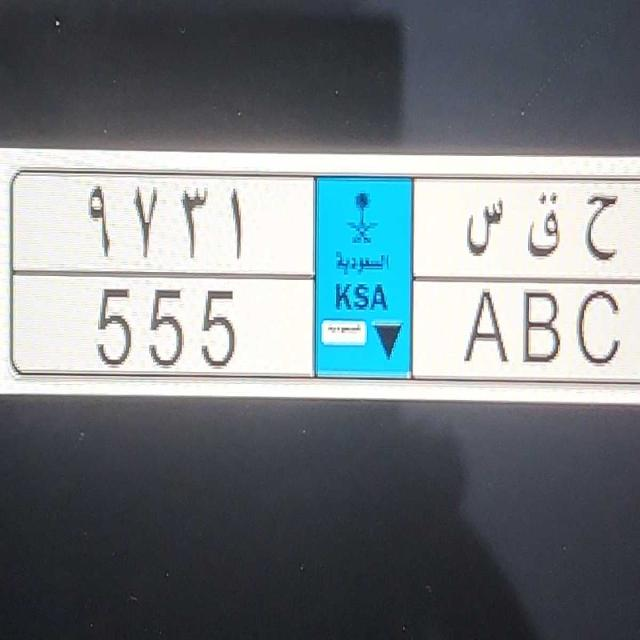license_plate: (15, 277, 639, 379)
